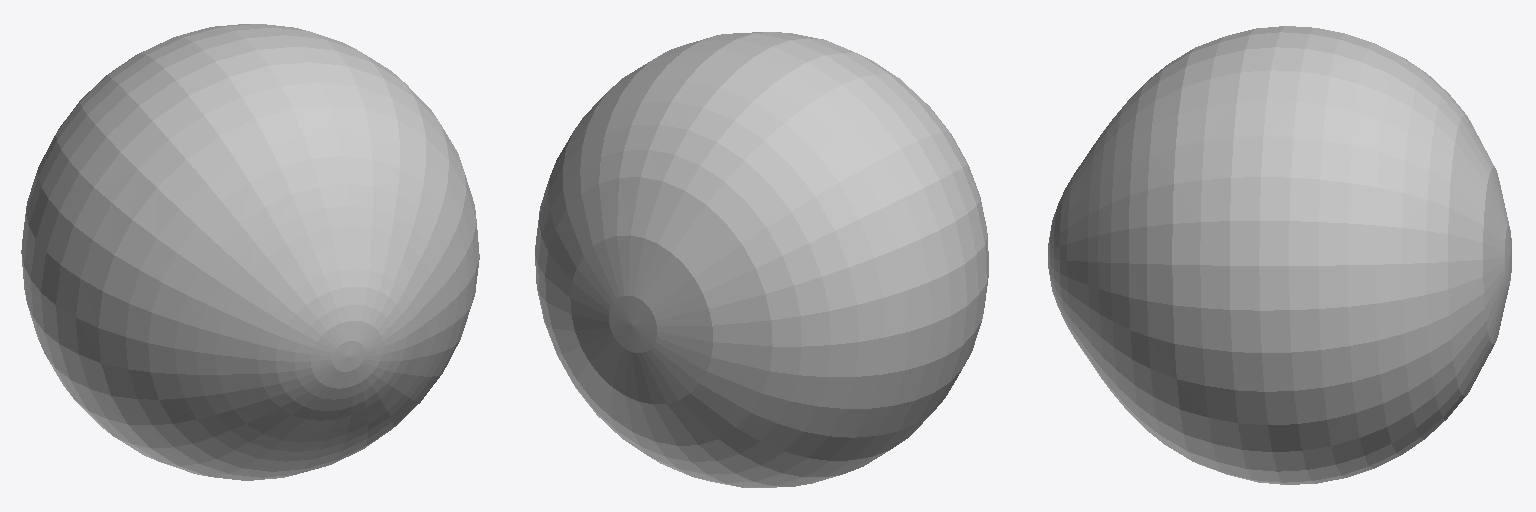
File: eyeRight_mesh_move.obj
3 renders of one model, left to right at view 1: azimuth 30°, elevation 25°; view 2: azimuth 150°, elevation 25°; view 3: azimuth 270°, elevation 25°, orthographic.
Visible parts, largest first — view 1: eyeRight_mesh:Mesh; view 2: eyeRight_mesh:Mesh; view 3: eyeRight_mesh:Mesh.
Part boxes in pixels (bbox=[...]): eyeRight_mesh:Mesh: bbox=[21, 24, 479, 480]; eyeRight_mesh:Mesh: bbox=[535, 32, 988, 487]; eyeRight_mesh:Mesh: bbox=[1048, 26, 1511, 484].
Size of the model in its own units: 0.2898 by 0.2885 by 0.2919.